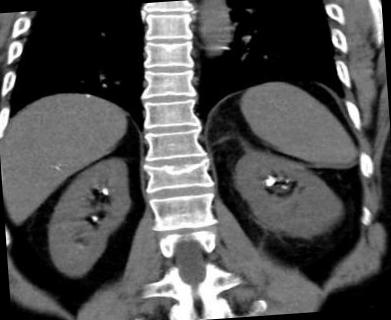Tas_Var: (260, 175, 277, 187), (88, 212, 102, 225), (99, 186, 113, 198), (278, 184, 288, 190), (284, 178, 289, 184)
